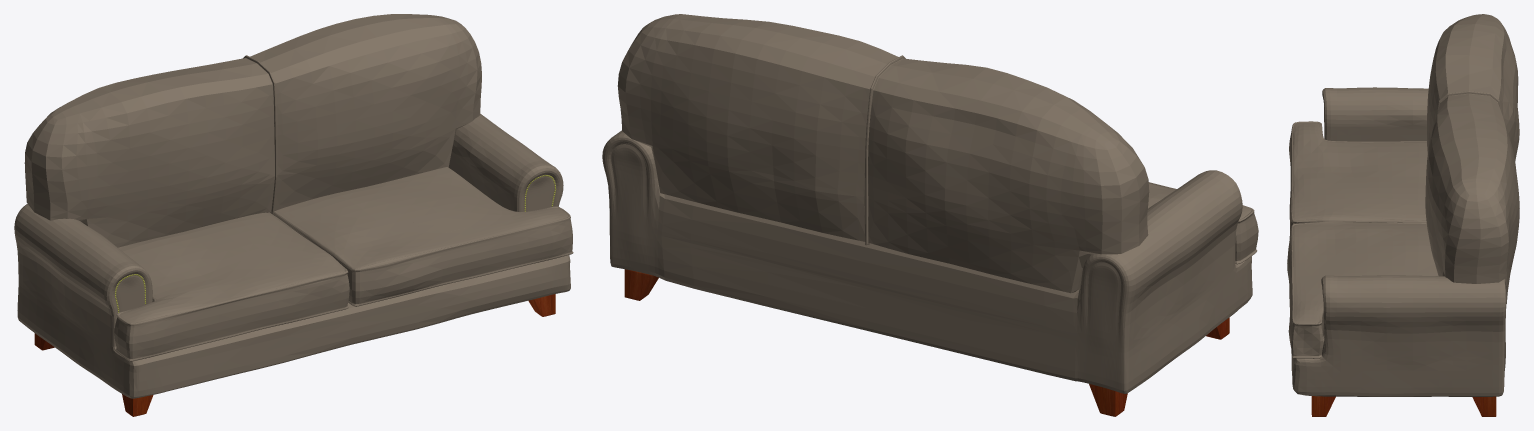
Rendered from sweethome3d-scopia-sofa-85.glb.
3 renders of one model, left to right at view 1: azimuth 30°, elevation 25°; view 2: azimuth 150°, elevation 25°; view 3: azimuth 270°, elevation 25°, orthographic. The views are drawn at different scales.
Parts seen in each view (by area): view 1: back_cushion_Cube.003, sofa_bse_Cube, left_cushion_Cube.002, right_cushion_Cube.001; view 2: back_cushion_Cube.003, sofa_bse_Cube, right_cushion_Cube.001, cubeleg3_Cube.009, cubeleg4_Cube.010; view 3: sofa_bse_Cube, back_cushion_Cube.003, right_cushion_Cube.001, left_cushion_Cube.002, cubeleg1_Cube.004, cubeleg4_Cube.010.
Part boxes in pixels (x1,y1,x2,y2): back_cushion_Cube.003: [24, 14, 481, 247]; sofa_bse_Cube: [14, 114, 570, 398]; left_cushion_Cube.002: [273, 167, 573, 306]; right_cushion_Cube.001: [114, 212, 349, 361]; back_cushion_Cube.003: [617, 14, 1149, 293]; sofa_bse_Cube: [602, 130, 1252, 393]; right_cushion_Cube.001: [1148, 182, 1258, 264]; cubeleg3_Cube.009: [1089, 384, 1127, 416]; cubeleg4_Cube.010: [624, 269, 658, 300]; sofa_bse_Cube: [1291, 87, 1506, 396]; back_cushion_Cube.003: [1425, 14, 1519, 303]; right_cushion_Cube.001: [1289, 121, 1427, 232]; left_cushion_Cube.002: [1287, 221, 1438, 358]; cubeleg1_Cube.004: [1311, 396, 1335, 416]; cubeleg4_Cube.010: [1472, 396, 1496, 416].
Size of the model in its own units: 192 by 100 by 90.31.
3 materials, 1 textured.
